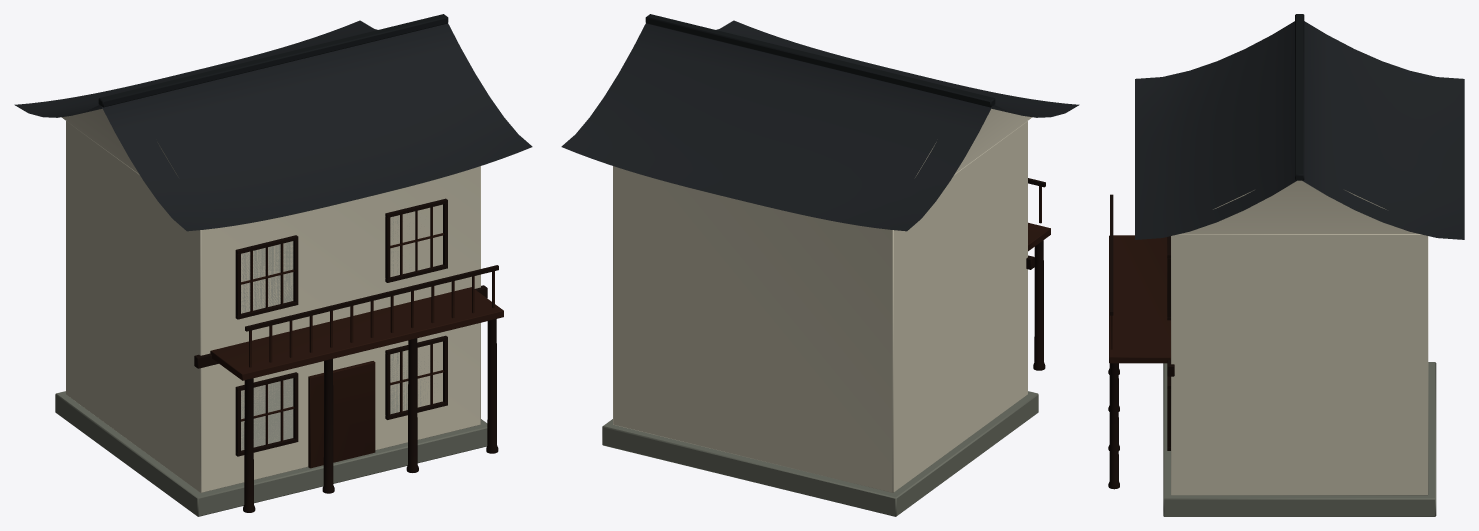
Rendered from hz-house-fayun-b.glb.
The picture shows the model from 3 angles, left to right: view 1: azimuth 30°, elevation 25°; view 2: azimuth 150°, elevation 25°; view 3: azimuth 270°, elevation 25°; orthographic projection. The views are drawn at different scales.
Parts seen in each view (by area): view 1: walls__plaster, roof__tile, timber__wood, plinth__stone, door__wood, glass__glass; view 2: walls__plaster, roof__tile, plinth__stone, timber__wood; view 3: walls__plaster, roof__tile, timber__wood, plinth__stone.
Part boxes in pixels (x1=…): walls__plaster: x1=62, y1=108, x2=480, y2=492; roof__tile: x1=14, y1=14, x2=532, y2=231; timber__wood: x1=194, y1=198, x2=503, y2=512; plinth__stone: x1=55, y1=391, x2=487, y2=516; door__wood: x1=308, y1=361, x2=375, y2=468; glass__glass: x1=241, y1=222, x2=407, y2=450; walls__plaster: x1=613, y1=108, x2=1031, y2=492; roof__tile: x1=561, y1=14, x2=1079, y2=231; plinth__stone: x1=602, y1=391, x2=1038, y2=516; timber__wood: x1=1026, y1=178, x2=1050, y2=370; walls__plaster: x1=1171, y1=180, x2=1428, y2=495; roof__tile: x1=1135, y1=14, x2=1464, y2=239; timber__wood: x1=1108, y1=194, x2=1174, y2=489; plinth__stone: x1=1163, y1=362, x2=1436, y2=516.
Size of the model in its own units: 7.4 by 7.6 by 6.91.
